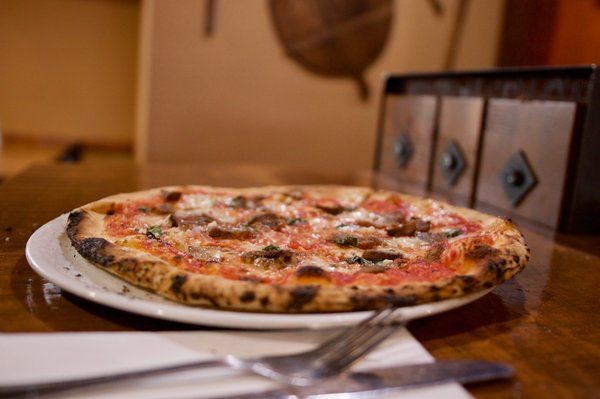curry: (1, 136, 558, 399)
sandwich: (36, 183, 543, 314)
